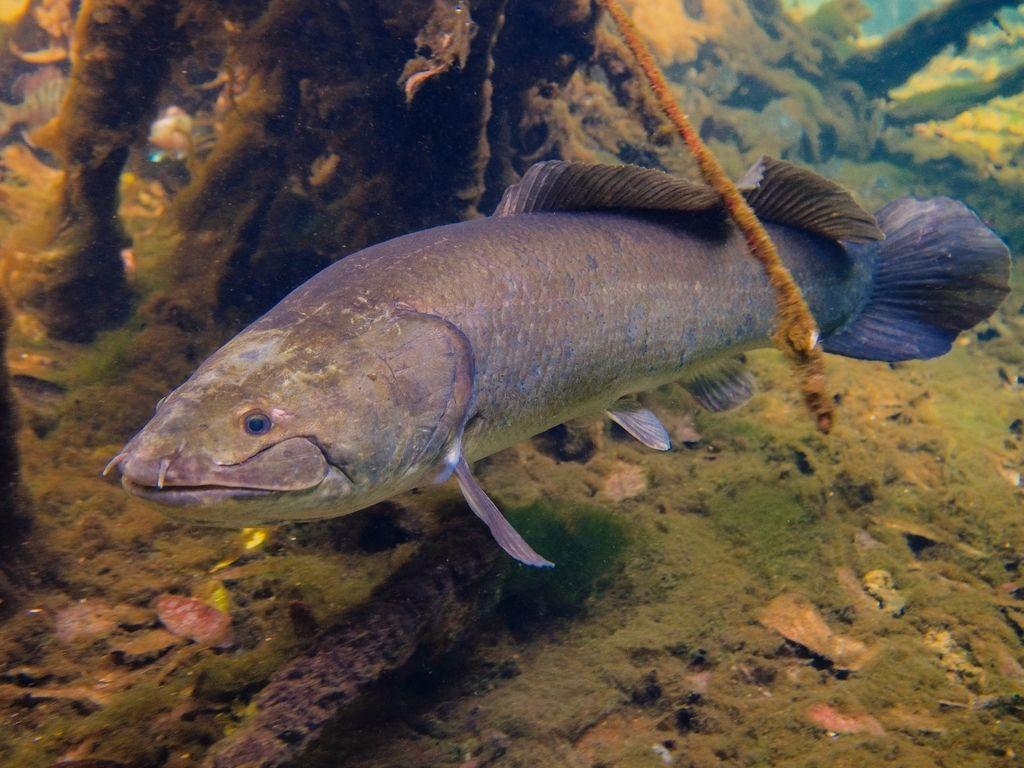Mudfish: (119, 152, 1002, 572)
